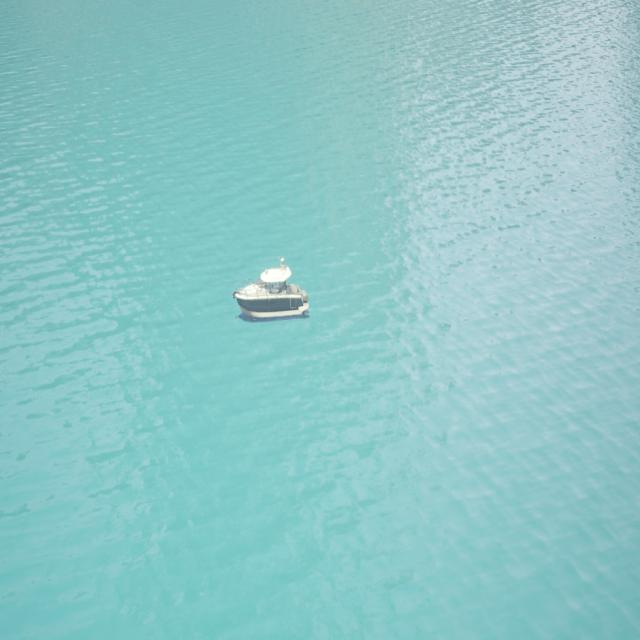ship: (232, 257, 310, 320)
